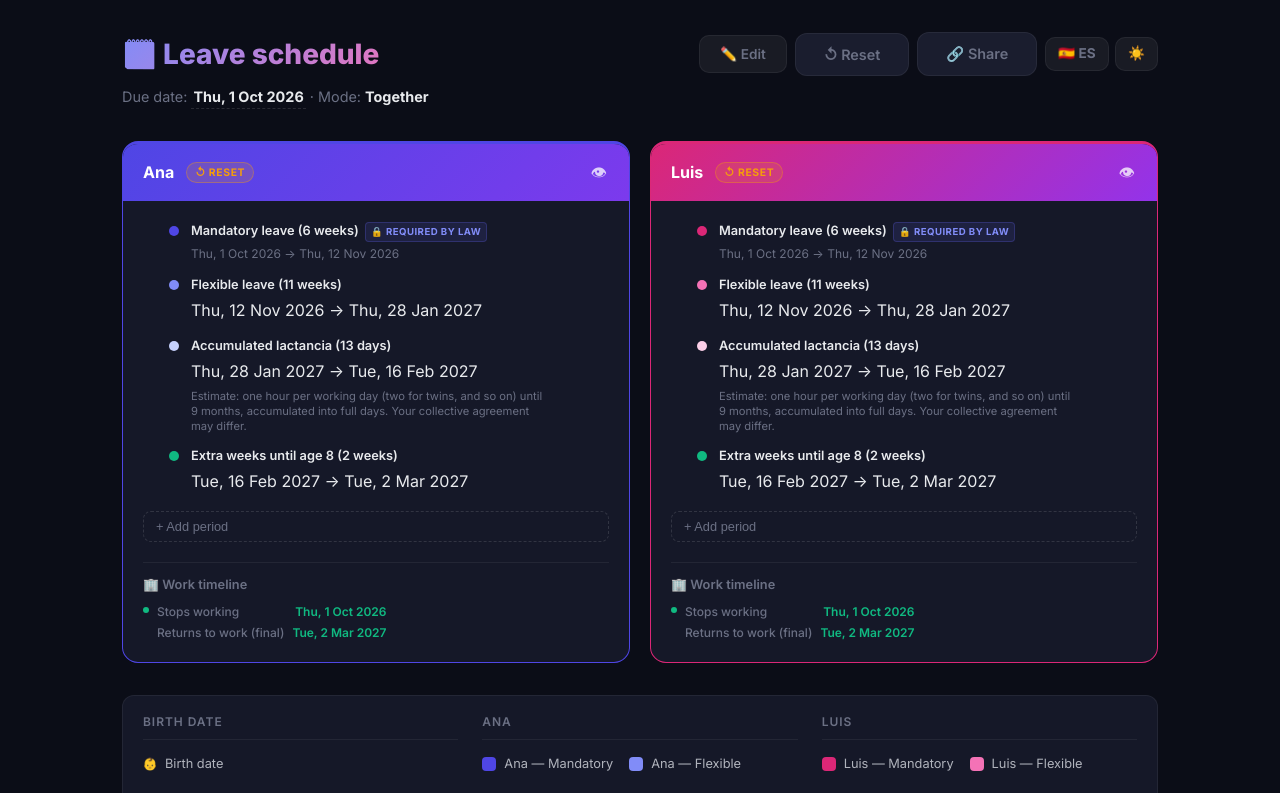
Test: CalendarView — the add-extra form › seeds the duration from the parental preset
This screenshot has width=1280, height=793.
Click the 1st button with test id "add-period-btn" at (192, 526), box [143, 511, 609, 542]
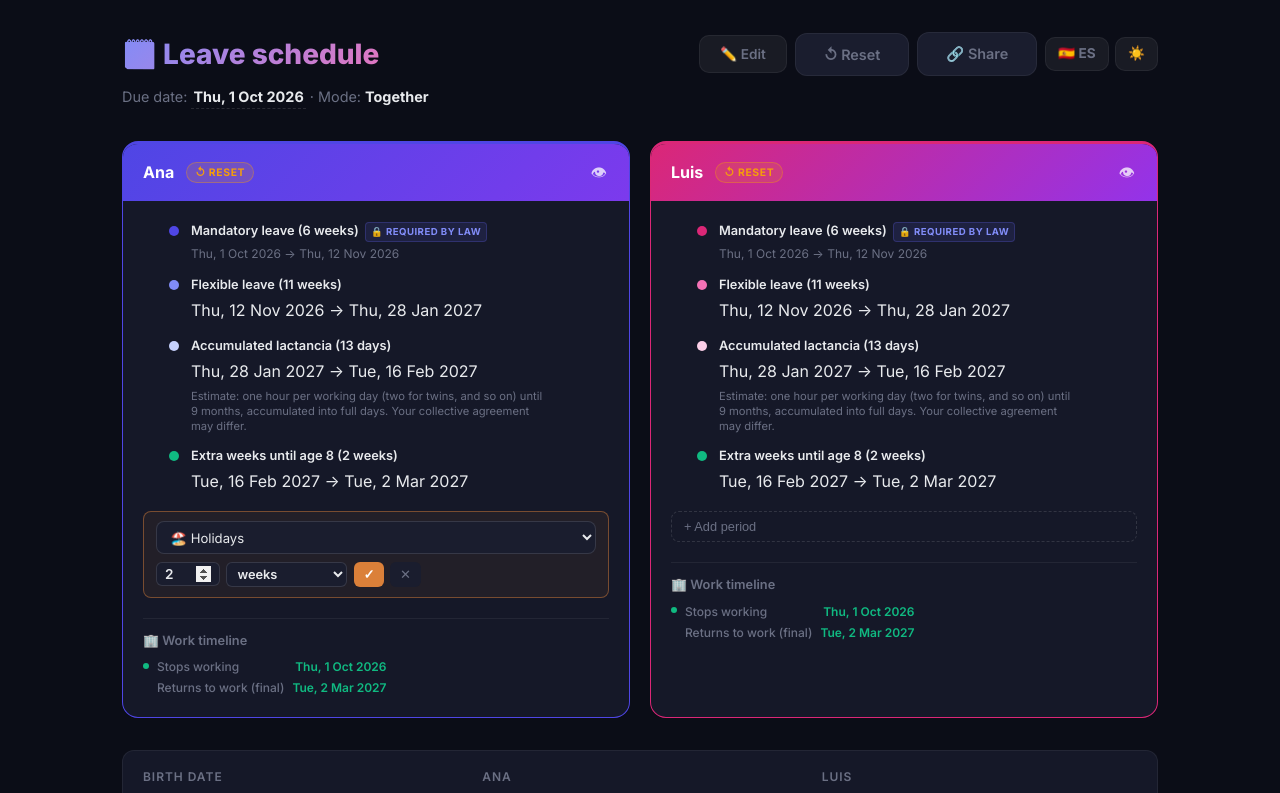
Select "👶 Parental leave (unpaid, up to 8 weeks)" in the dropdown named "Period type" at (376, 538), box [156, 521, 596, 554]
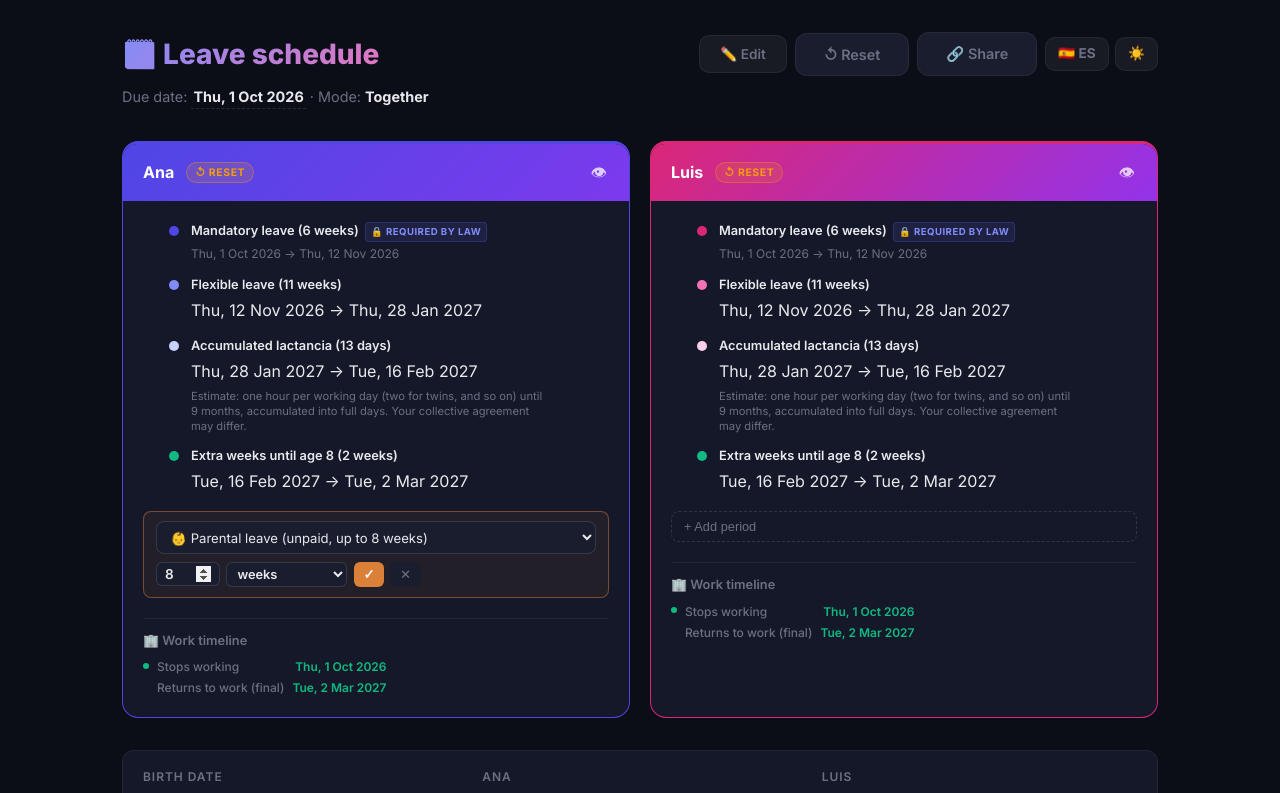
Now the dropdown named "Duration unit" shows "weeks", box [226, 562, 347, 587]
Now the number field named "Duration" holds "8", box [156, 562, 220, 586]
